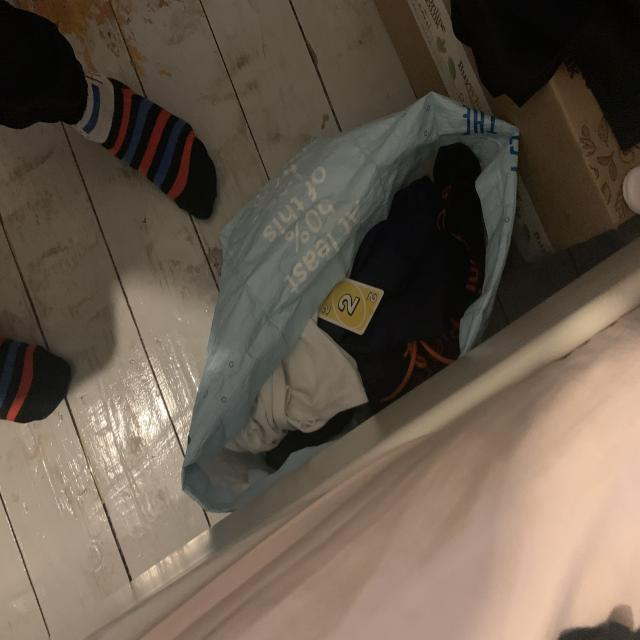lyellow-2: (364, 289, 379, 305)
